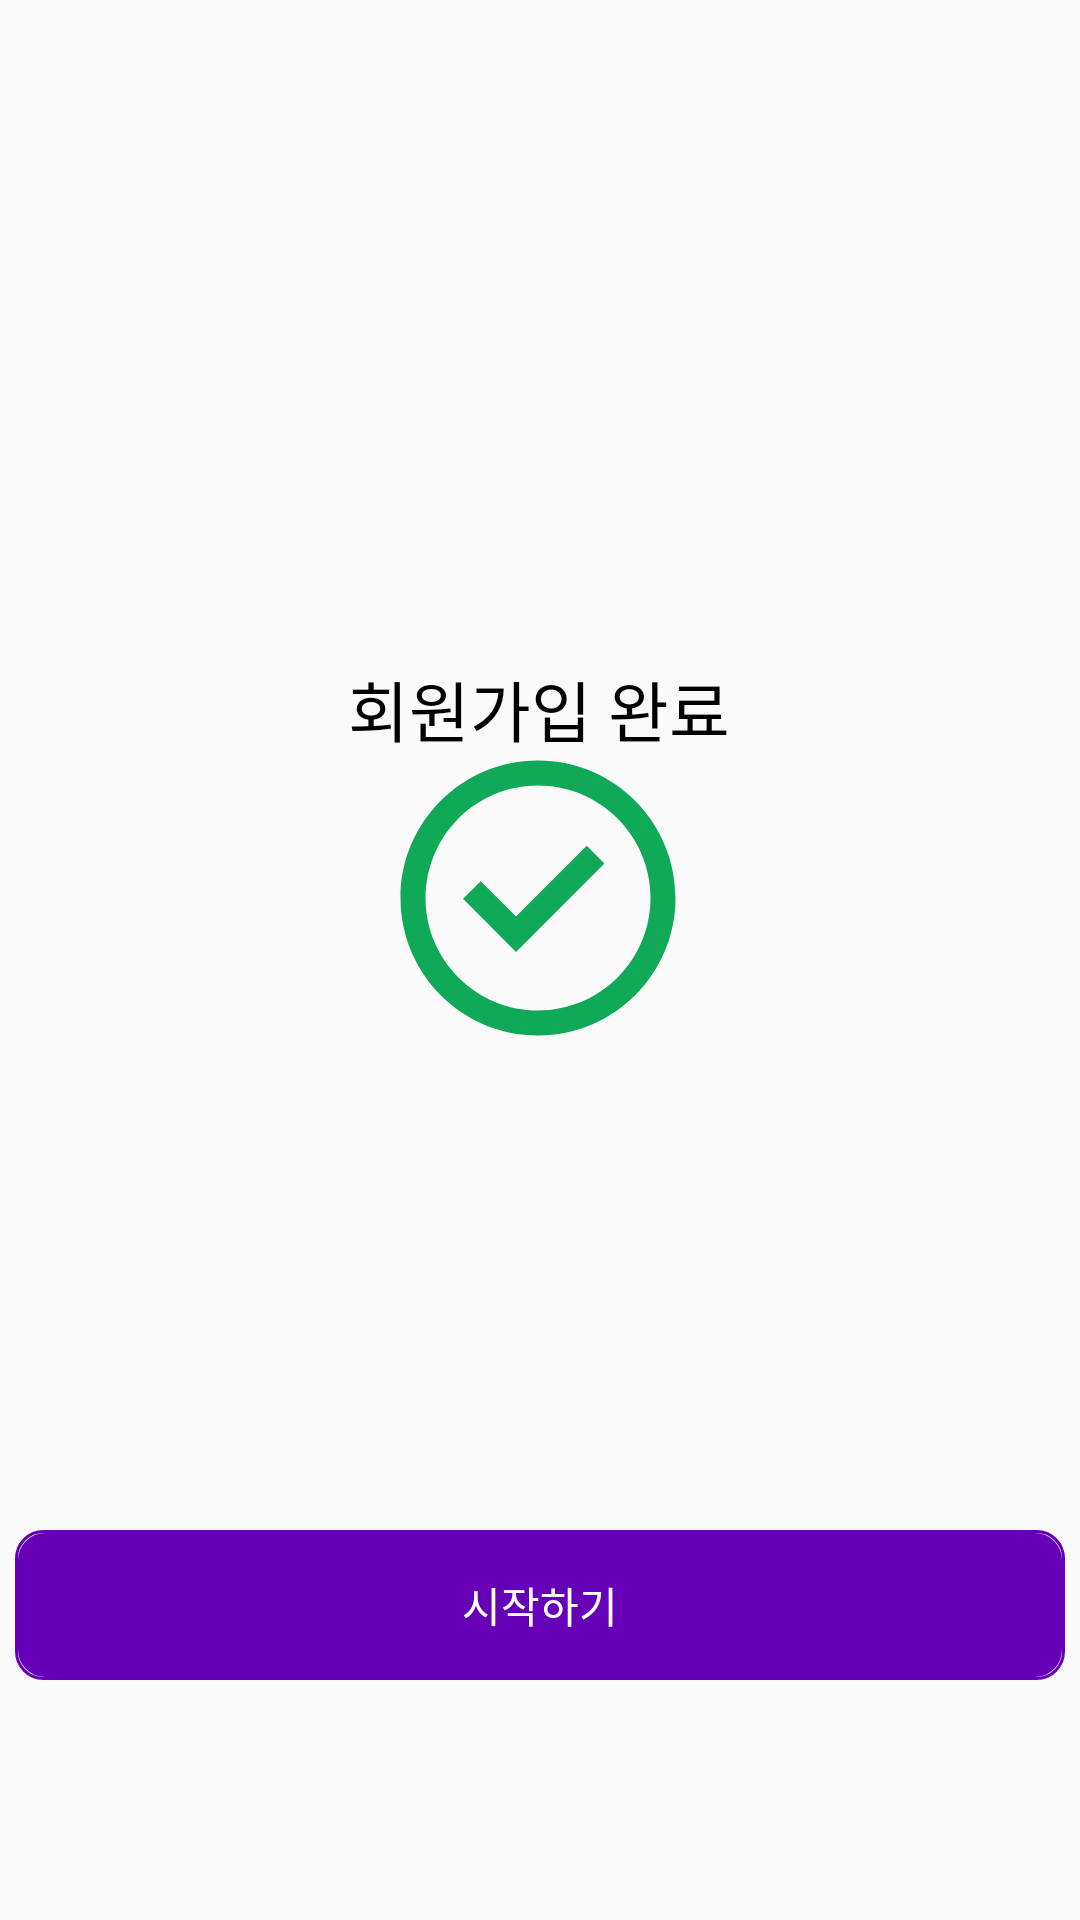

Screen size 1080x1920. Icon name, then its box in pixels as (x1, y1, x2, y2):
check: (400, 760, 676, 1036)
